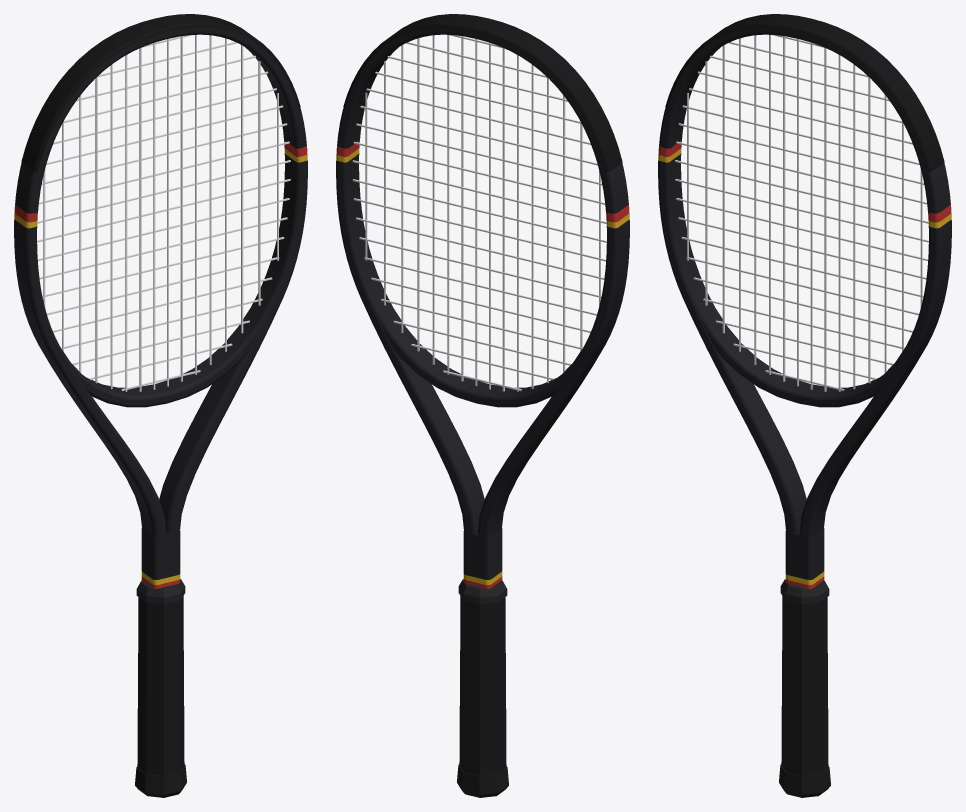
File: wilson-pro-staff-97l-classic.glb
The picture shows the model from 3 angles, left to right: view 1: azimuth 30°, elevation 25°; view 2: azimuth 150°, elevation 25°; view 3: azimuth 330°, elevation 25°; orthographic projection.
Visible parts, largest first — view 1: frame, strings_mains, strings_crosses, grip, bumper, butt_cap, collar; view 2: frame, strings_mains, strings_crosses, grip, bumper, butt_cap, collar; view 3: frame, strings_mains, strings_crosses, grip, bumper, butt_cap, collar.
Boxes of the visible parts, x1,y1,x2,y2 form: frame: (14, 27, 307, 589); strings_mains: (43, 35, 278, 391); strings_crosses: (37, 35, 290, 390); grip: (137, 596, 184, 775); bumper: (21, 14, 300, 172); butt_cap: (135, 764, 186, 797); collar: (136, 579, 185, 604); frame: (336, 27, 629, 589); strings_mains: (365, 35, 600, 391); strings_crosses: (352, 35, 606, 391); grip: (459, 596, 506, 775); bumper: (343, 14, 622, 172); butt_cap: (457, 764, 508, 797); collar: (458, 579, 507, 604); frame: (658, 27, 951, 589); strings_mains: (687, 35, 922, 391); strings_crosses: (675, 35, 928, 390); grip: (781, 596, 828, 775); bumper: (665, 14, 944, 172); butt_cap: (779, 764, 830, 797); collar: (780, 579, 829, 604).
Bounding box in the file's own units: 0.2649 × 0.6861 × 0.0396.
